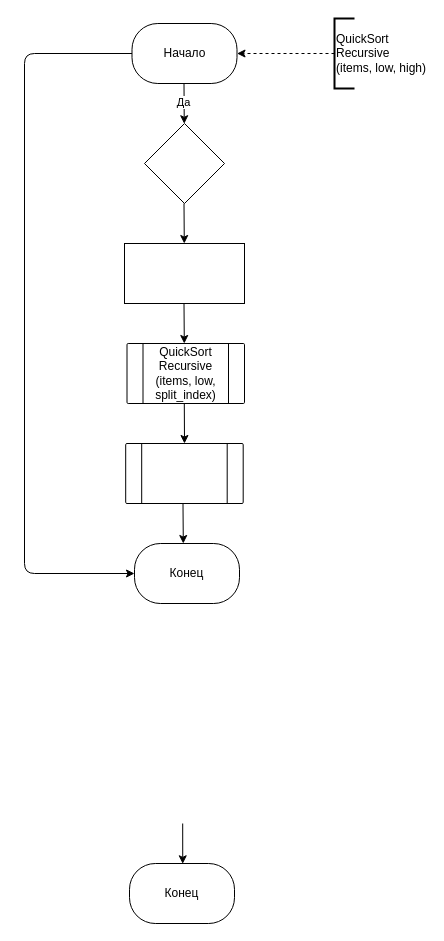
The diagram is 444 pixels wide and 941 high, and some of its shapes have lost their labels. Here are the shapes that lost their labels. From the top down, the centre of each, then its label:
point 184,163: low < high?
point 184,273: split_index = Partition(items, low, high)
point 184,473: QuickSort Recursive ( items, split_index + 1, high )
